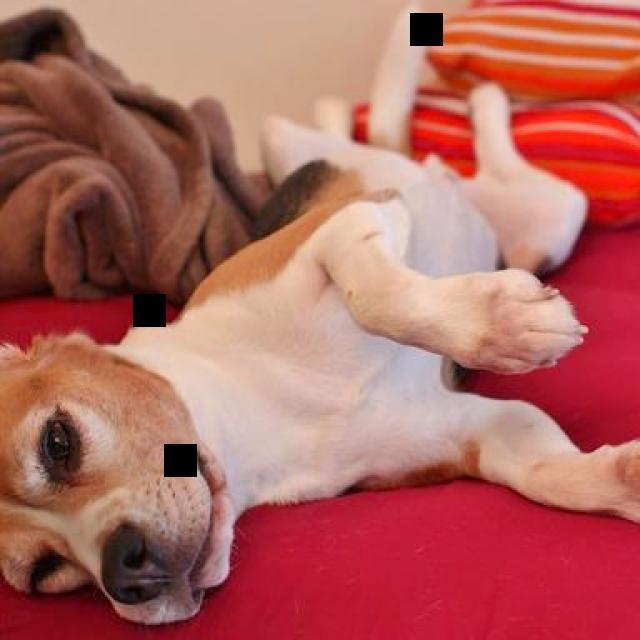adult_dog: (1, 4, 640, 628)
